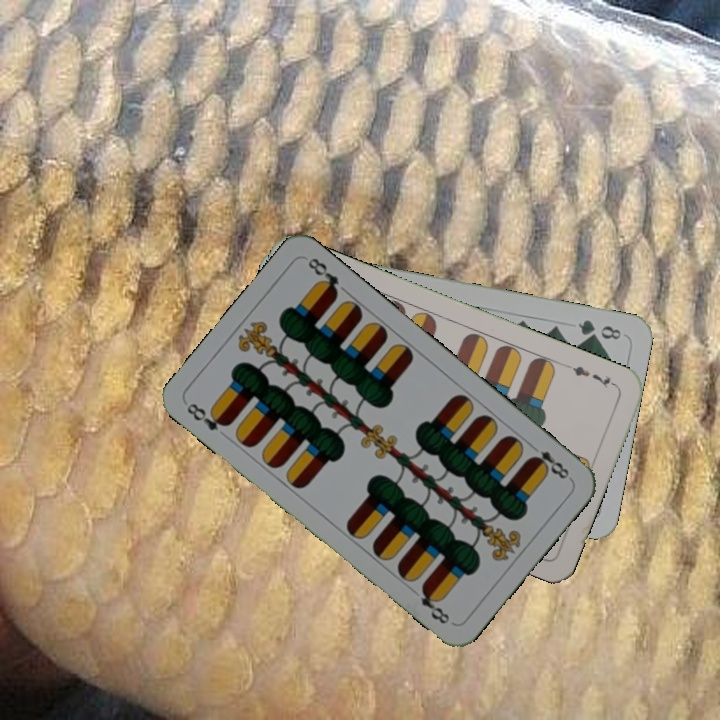E7: (563, 360, 619, 391)
E8: (525, 439, 574, 483), (182, 399, 232, 434)
G8: (574, 315, 624, 342)
